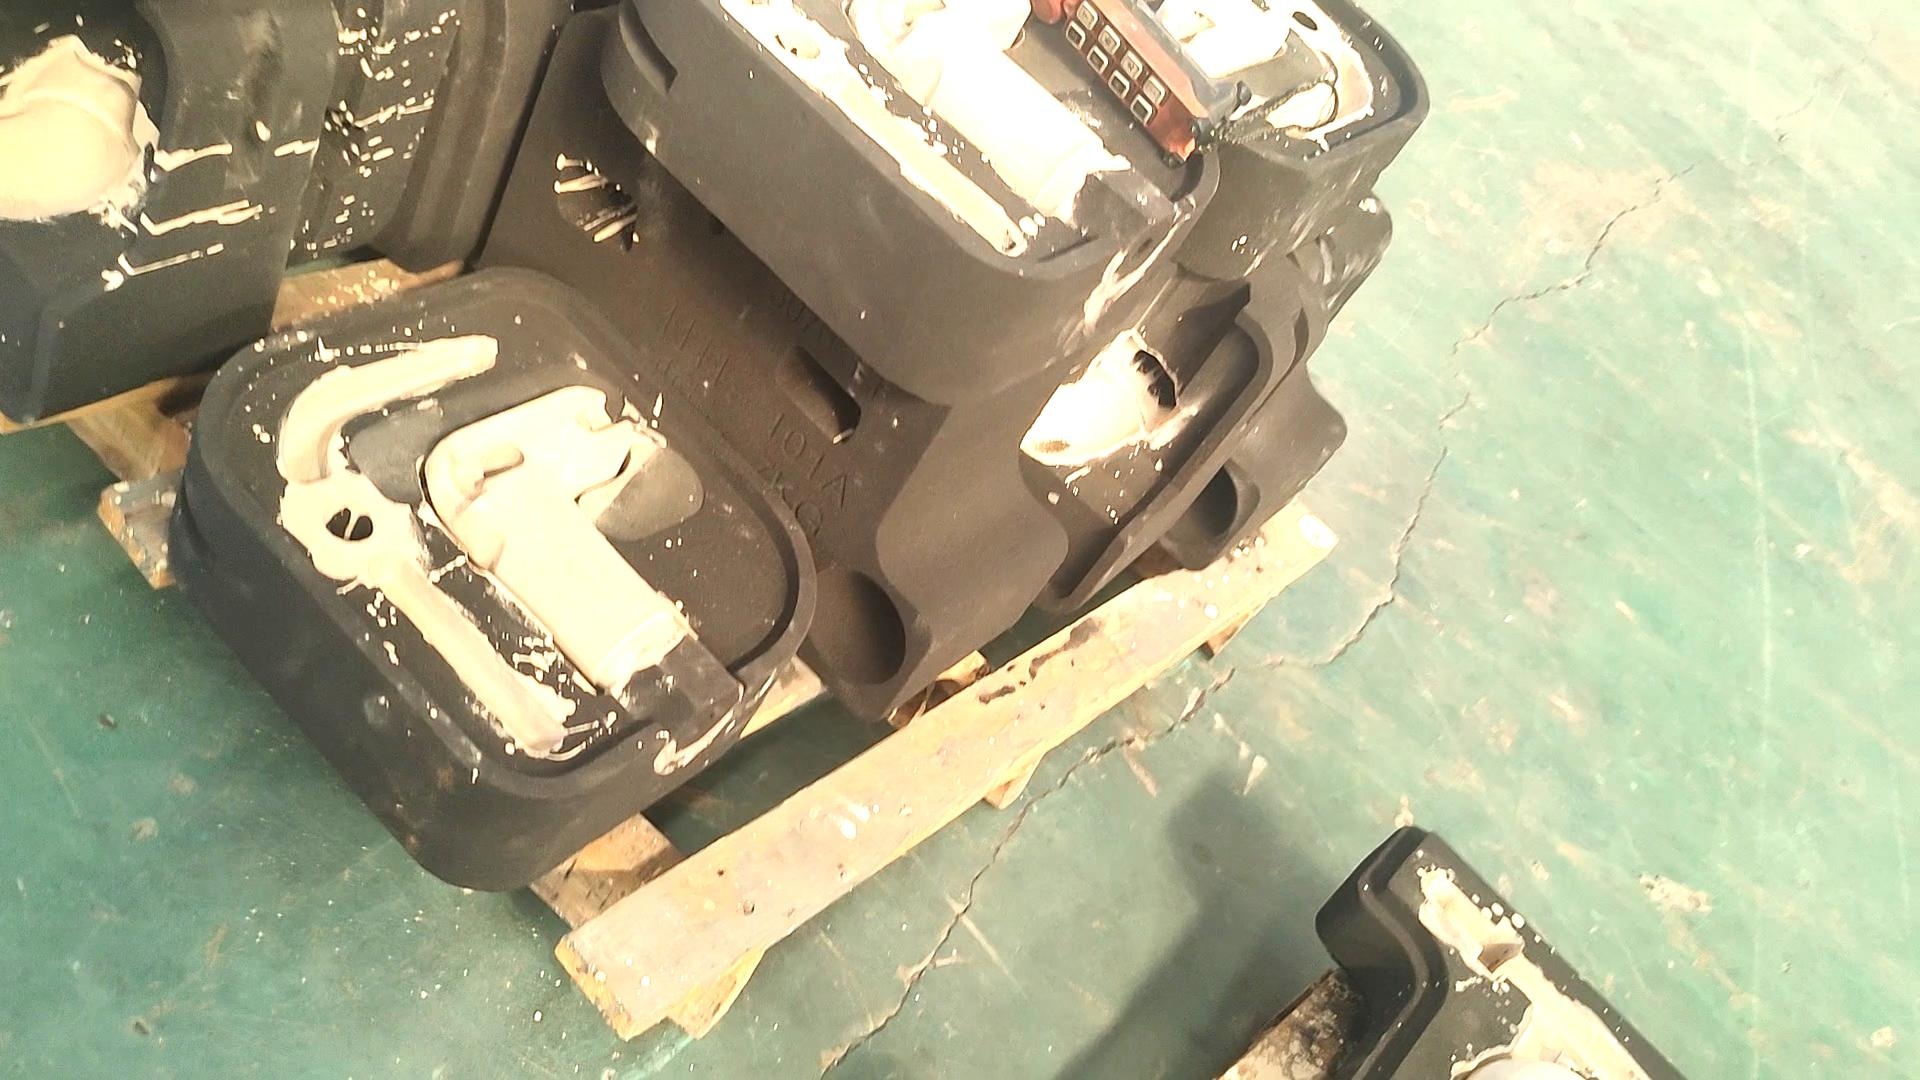pouring hole: (803, 567, 907, 686), (1145, 448, 1238, 545)
